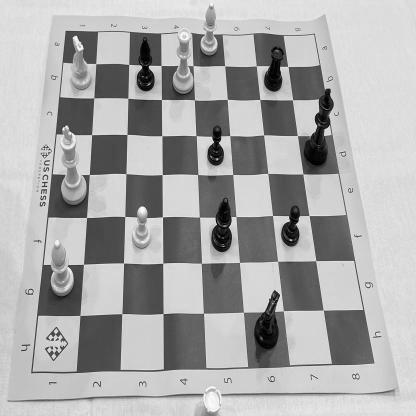black-bishop: (209, 194, 236, 258), (132, 29, 158, 94)
black-king: (301, 81, 338, 170)
black-knight: (251, 284, 286, 351)
black-pawn: (204, 122, 228, 170), (278, 204, 303, 250)
black-rook: (259, 40, 288, 100)
white-bishop: (46, 233, 80, 299), (198, 0, 222, 59)
white-king: (54, 116, 92, 210)
white-knight: (65, 28, 98, 94)
white-pawn: (128, 201, 154, 250)
white-queen: (170, 24, 199, 100)
